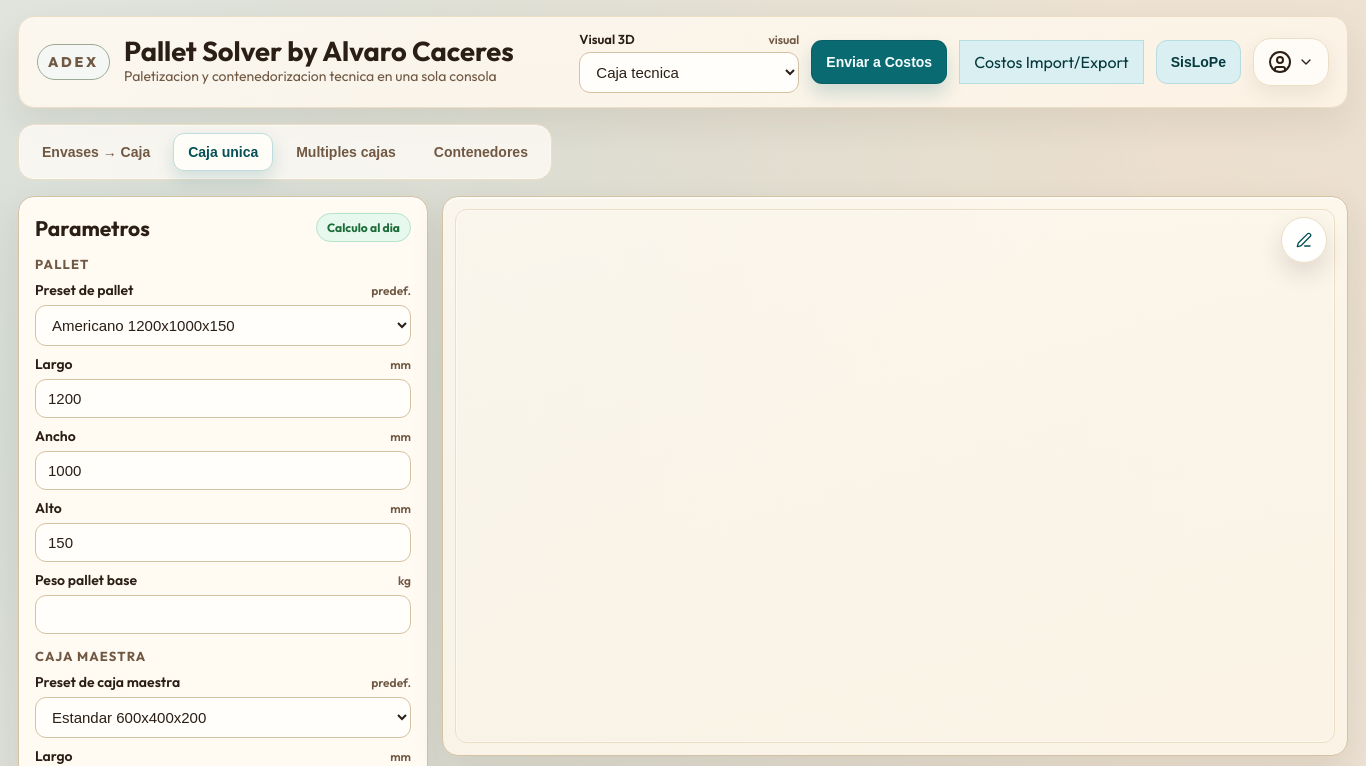
App input validation › en primera carga, Multi inicia con noMix activo y 3D heuristico generado
The width and height of the screenshot is (1366, 766).
Click the button "Multiples cajas".
click(346, 152)  # box left=281, top=133, right=411, bottom=171
(page scrolled)
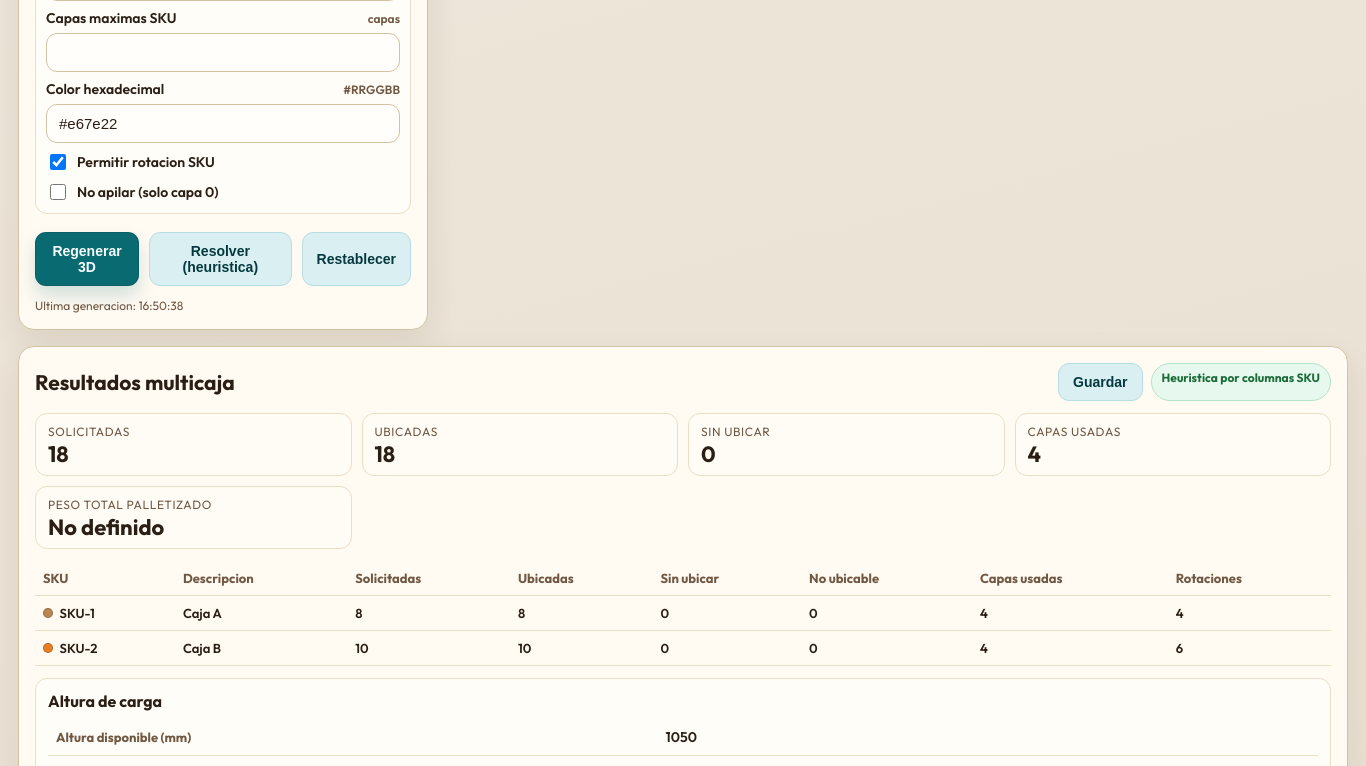
Now the text "Heuristica por columnas SKU" is shown, box left=1151, top=363, right=1331, bottom=401
